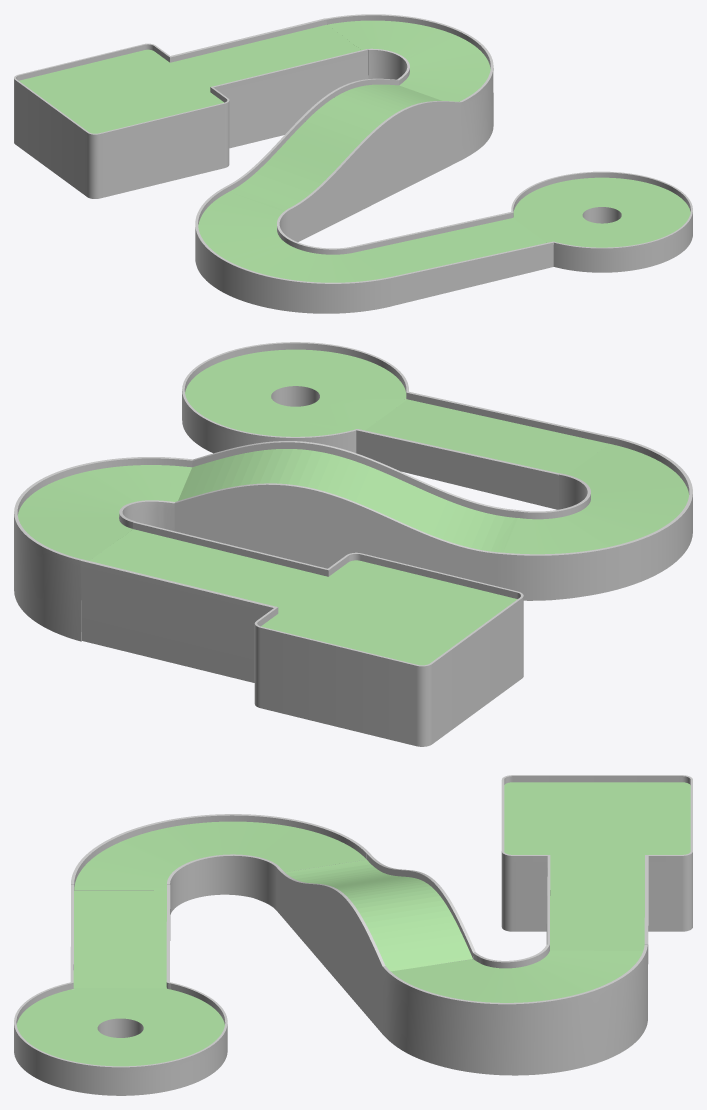
File: GolfStage02.glb
3 views of the same model, one above another, from view 1: azimuth 30°, elevation 25°; view 2: azimuth 150°, elevation 25°; view 3: azimuth 270°, elevation 25° (orthographic). The views are drawn at different scales.
Parts seen in each view (by area): view 1: Cube.001; view 2: Cube.001; view 3: Cube.001.
Part boxes in pixels (x1,y1,x2,y2): Cube.001: (14, 14, 692, 313); Cube.001: (14, 342, 692, 746); Cube.001: (14, 775, 692, 1095).
Bounding box in the file's own units: 4.26 × 0.7516 × 4.99.
